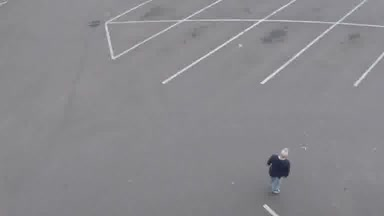person: (263, 146, 294, 195)
